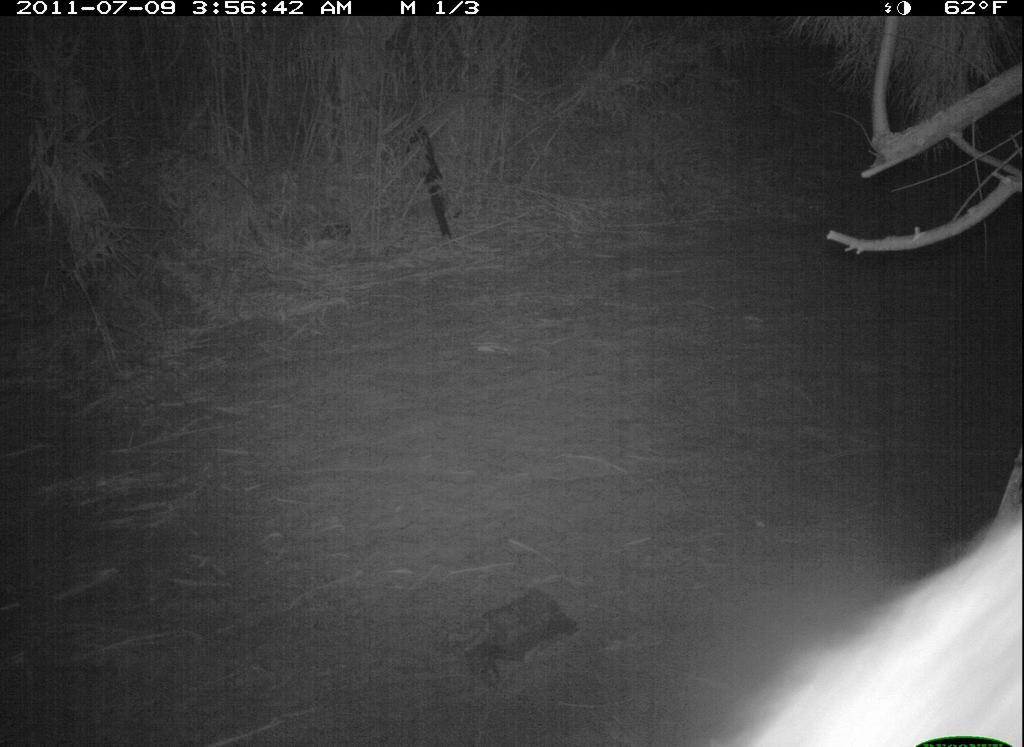raccoon: (700, 514, 1024, 747)
